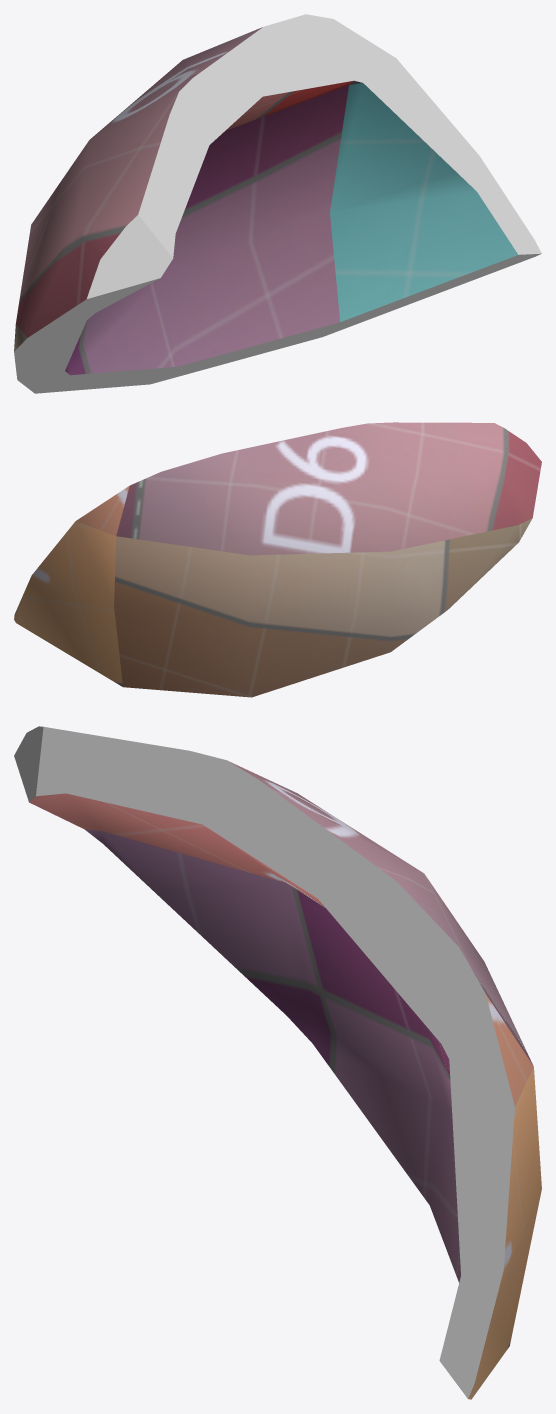
File: MediumVase_SHAT_cell_003.fbx
3 renders of one model, top to bottom at view 1: azimuth 30°, elevation 25°; view 2: azimuth 150°, elevation 25°; view 3: azimuth 270°, elevation 25°, orthographic. The views are drawn at different scales.
Visible parts, largest first — view 1: MediumVase_SHAT_cell_003; view 2: MediumVase_SHAT_cell_003; view 3: MediumVase_SHAT_cell_003.
Boxes of the visible parts, box(x1,y1,x2,y2) form: MediumVase_SHAT_cell_003: box(14, 14, 541, 393); MediumVase_SHAT_cell_003: box(14, 422, 541, 697); MediumVase_SHAT_cell_003: box(14, 726, 541, 1399).
Bounding box in the file's own units: 0.7147 × 0.4058 × 0.44.
2 materials, 1 textured.
